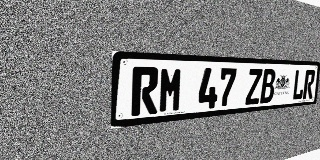4: (198, 68, 219, 110)
7: (217, 68, 237, 108)
B: (260, 69, 276, 104)
L: (292, 70, 306, 100)
M: (158, 67, 183, 114)
R: (131, 67, 159, 116), (302, 70, 316, 99)
Z: (245, 69, 263, 105)
